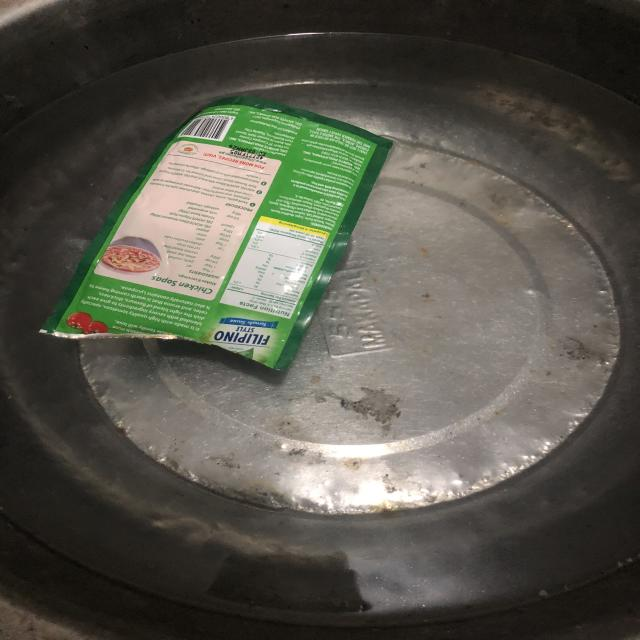Plastic Pouch: (14, 84, 410, 386)
